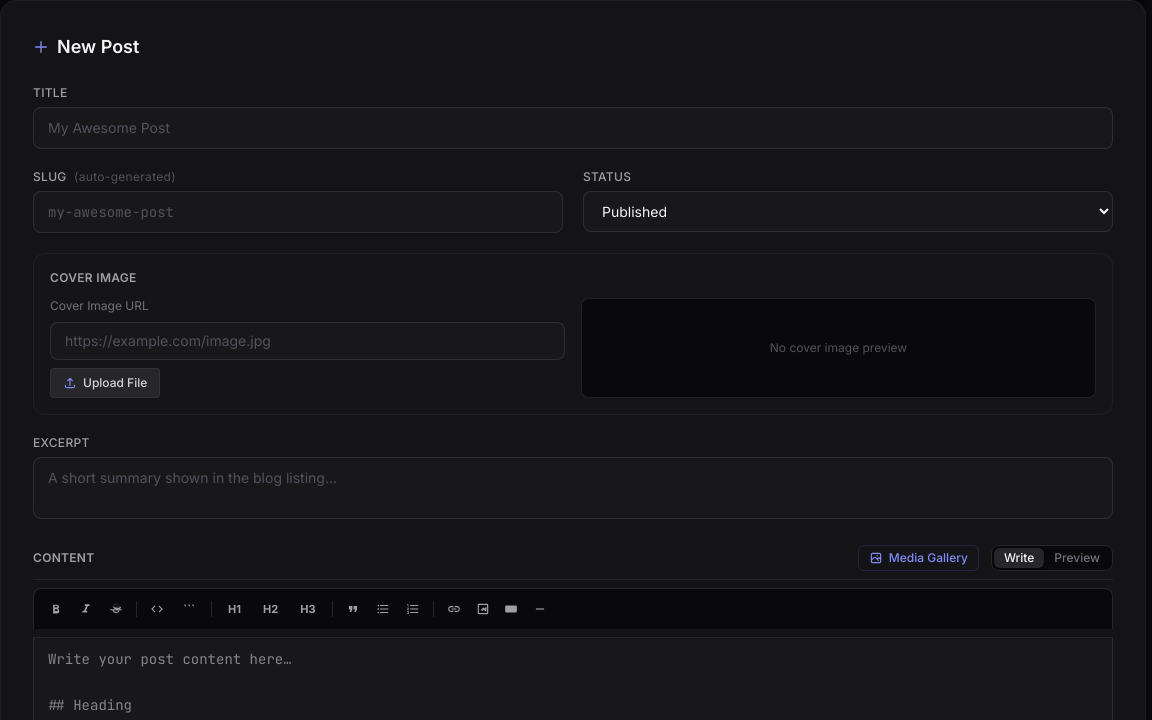
Scenario: BlogPostForm › auto-generates slug from title
The image size is (1152, 720).
In the field labelled "Title": (573, 128) [33,107,1113,149], type "My New Post"
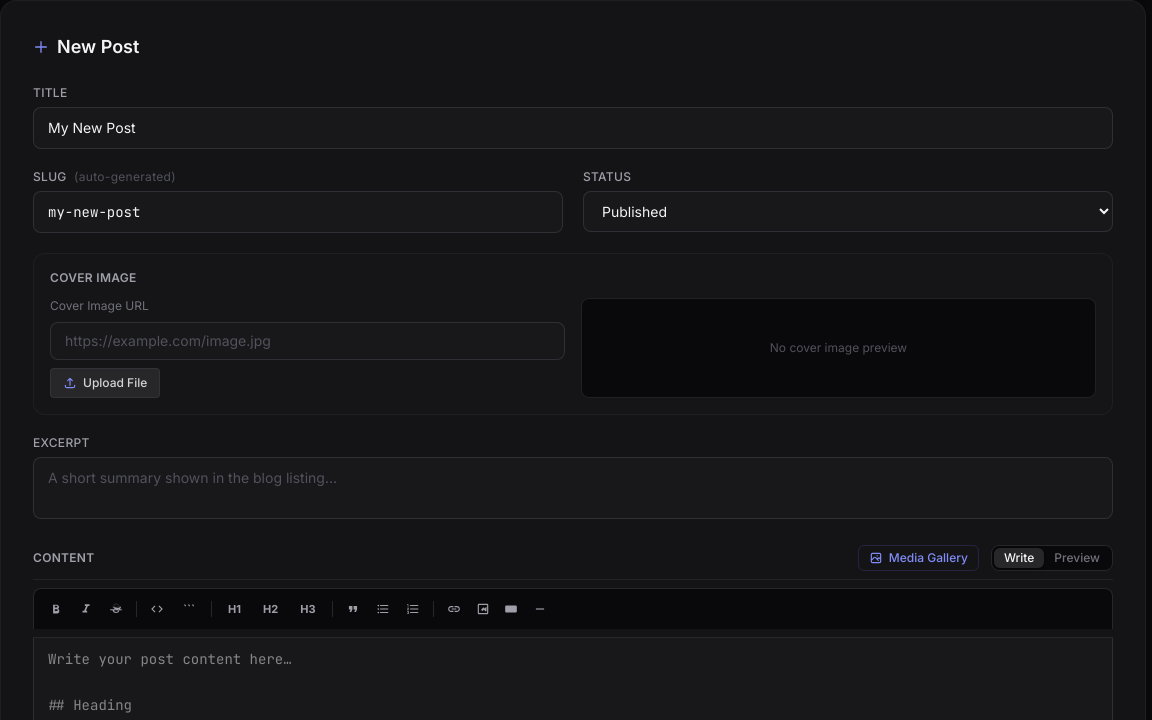
expect the field labelled "Slug (auto-generated)" holds "my-new-post": met, box [33,191,563,233]
